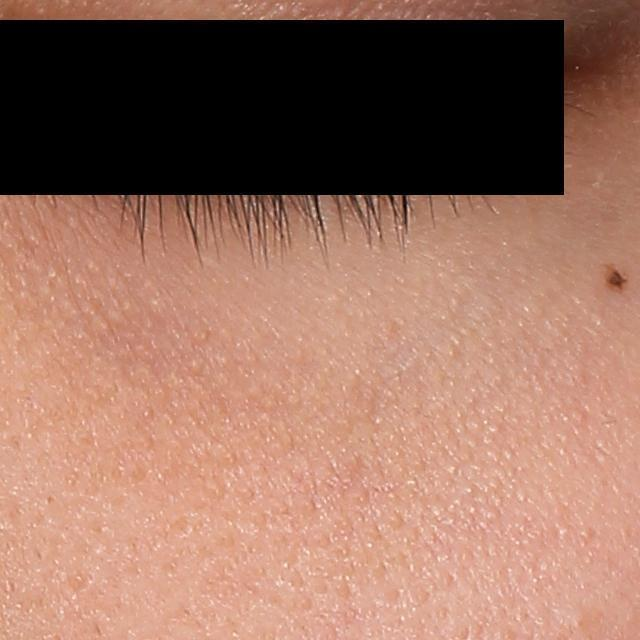nevus: (604, 259, 627, 293)
